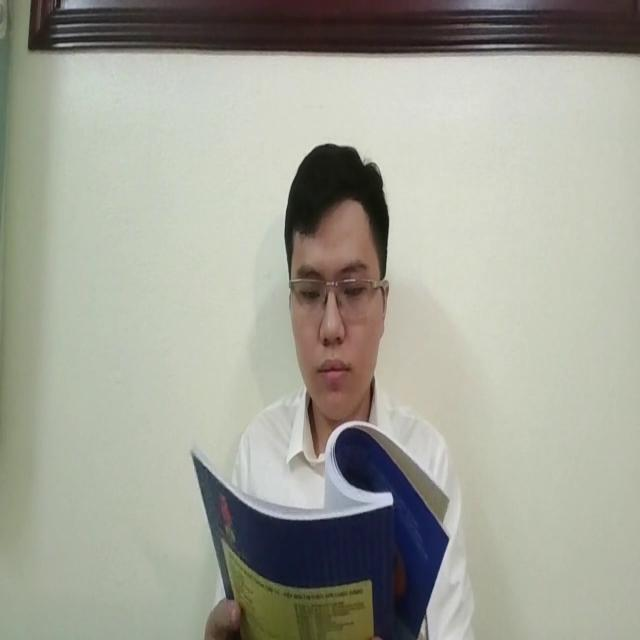book: (186, 416, 447, 640)
student: (219, 148, 476, 640)
